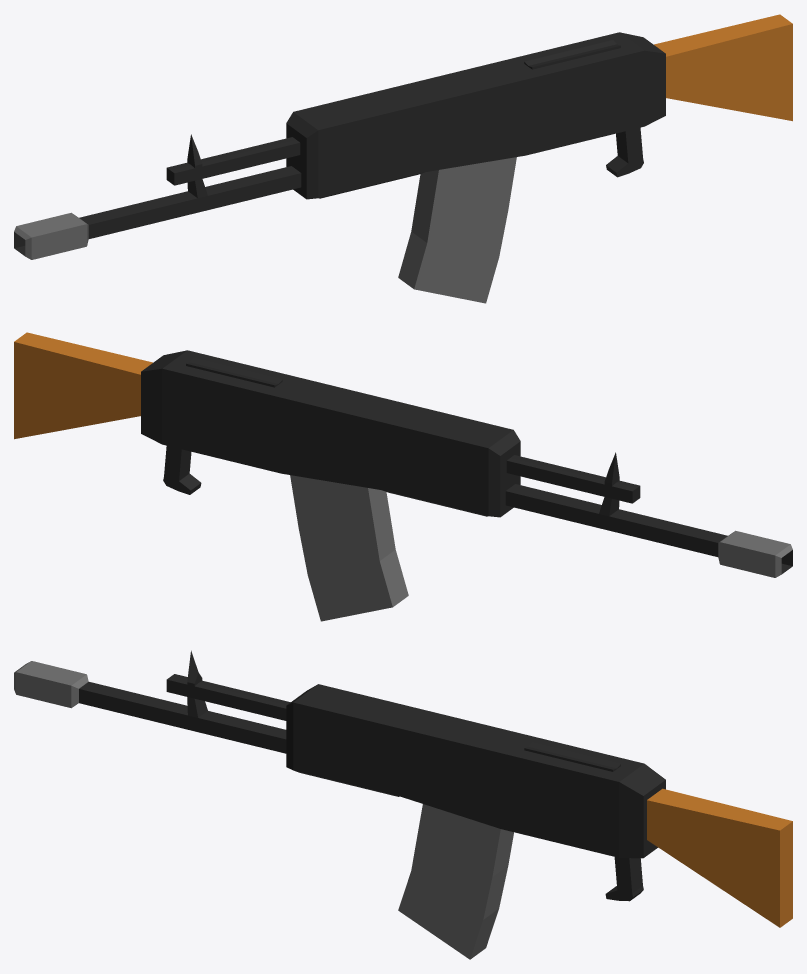
File: AKM.fbx
3 views of the same model, one above another, from view 1: azimuth 30°, elevation 25°; view 2: azimuth 150°, elevation 25°; view 3: azimuth 330°, elevation 25° (orthographic).
Parts seen in each view (by area): view 1: Cube; view 2: Cube; view 3: Cube.
Part boxes in pixels (x1=…): Cube: x1=14, y1=14, x2=792, y2=303; Cube: x1=14, y1=332, x2=792, y2=621; Cube: x1=14, y1=650, x2=792, y2=959.
Bounding box in the file's own units: 206 × 60.03 × 11.71.
